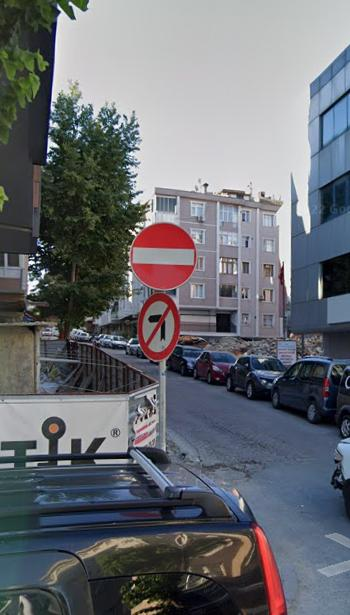leftturnsareforbidden: (136, 292, 182, 364)
